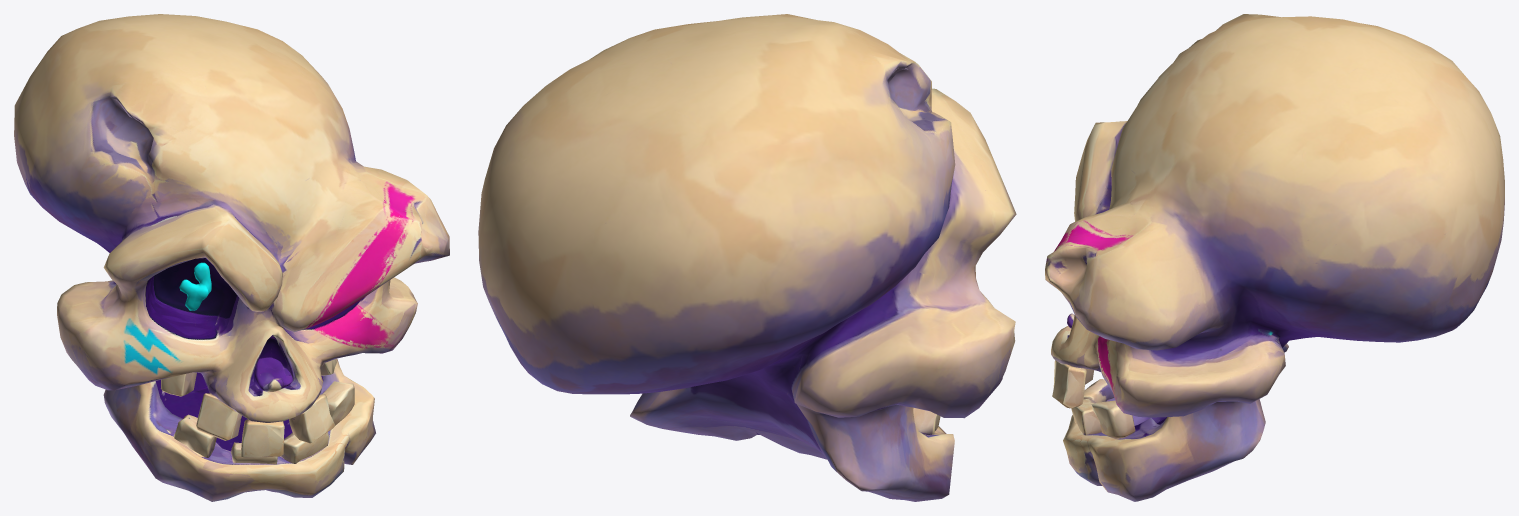
The model's file is moonbone-skull.glb.
3 views of the same model, side by side, from view 1: azimuth 30°, elevation 25°; view 2: azimuth 150°, elevation 25°; view 3: azimuth 270°, elevation 25° (orthographic). The views are drawn at different scales.
Size of the model in its own units: 0.8949 by 1 by 0.9958.
Materials: 1 (1 with a texture image).
